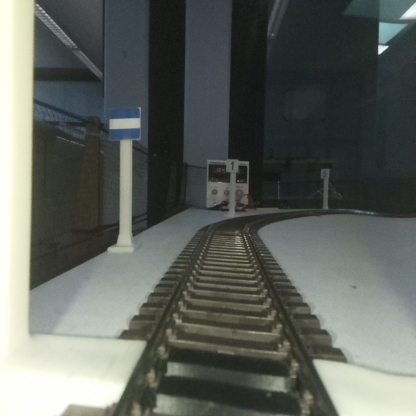start: (109, 106, 140, 252)
white-info-1: (226, 159, 237, 214)
